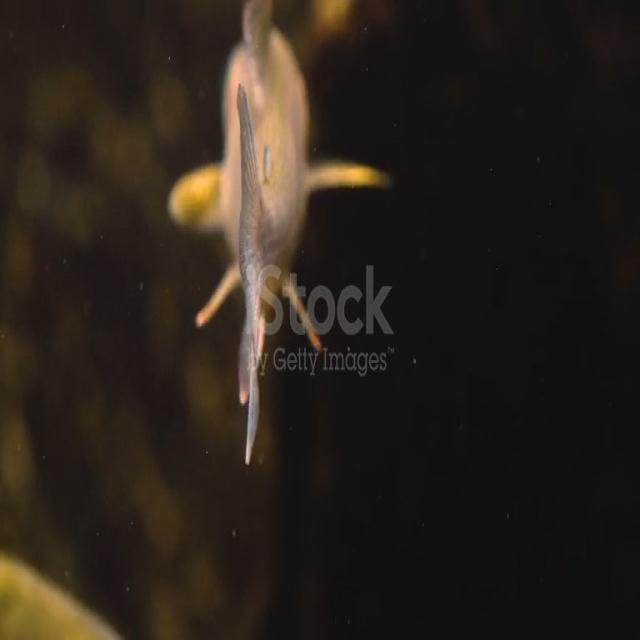fish: (170, 1, 392, 465)
